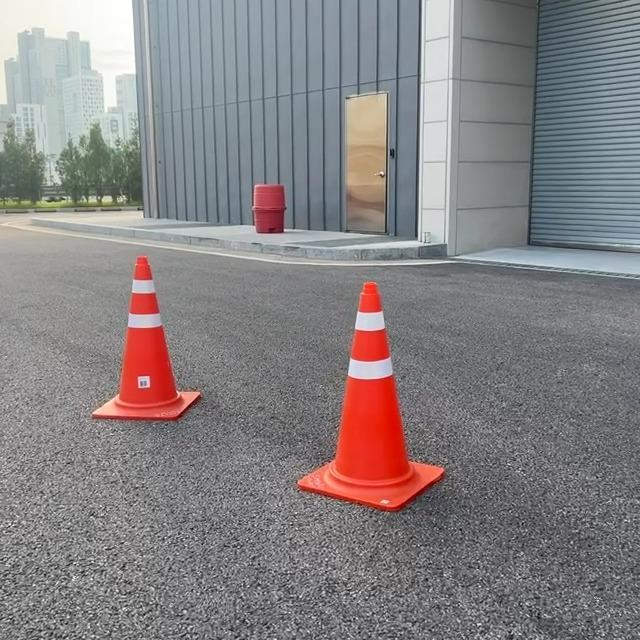fallen_object: (266, 247, 450, 524), (67, 246, 243, 445)
